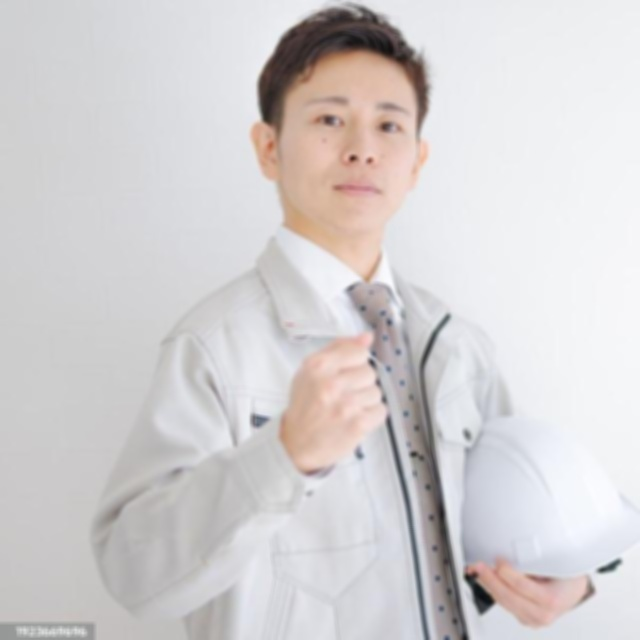Sin_Casco_Mascarrilla: (251, 3, 437, 237)
Sin_Chaleco: (172, 252, 501, 640)
